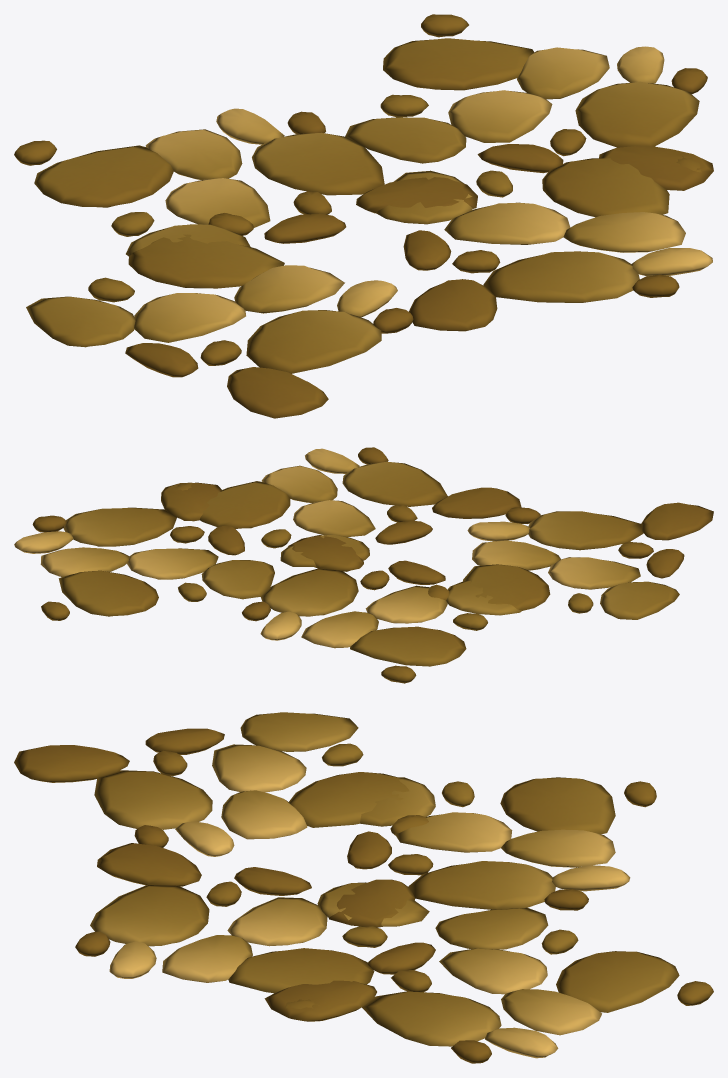
File: Mudd.fbx
The picture shows the model from 3 angles, top to bottom: view 1: azimuth 30°, elevation 25°; view 2: azimuth 150°, elevation 25°; view 3: azimuth 270°, elevation 25°; orthographic projection. The views are drawn at different scales.
Visible parts, largest first — view 1: pCube101; view 2: pCube101; view 3: pCube101.
Part boxes in pixels (left/top/right/bottom): pCube101: left=14, top=14, right=713, bottom=418; pCube101: left=14, top=447, right=713, bottom=683; pCube101: left=14, top=712, right=713, bottom=1063.
Bounding box in the file's own units: 152 × 3.18 × 129.
